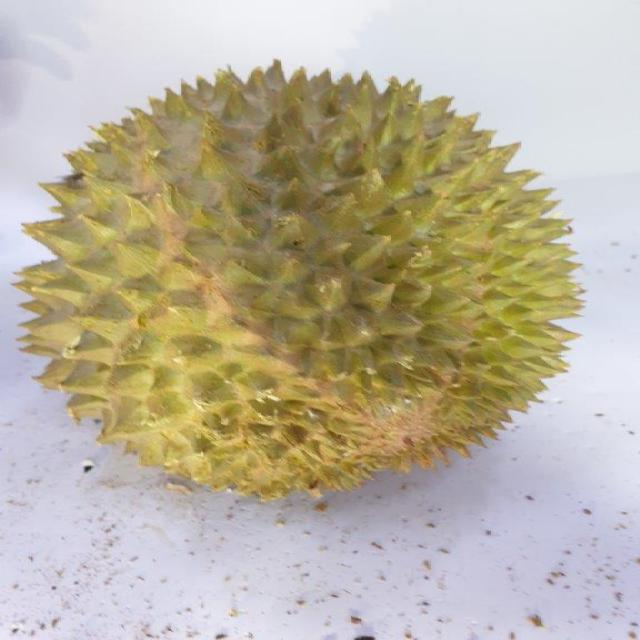immature: (12, 52, 584, 505)
